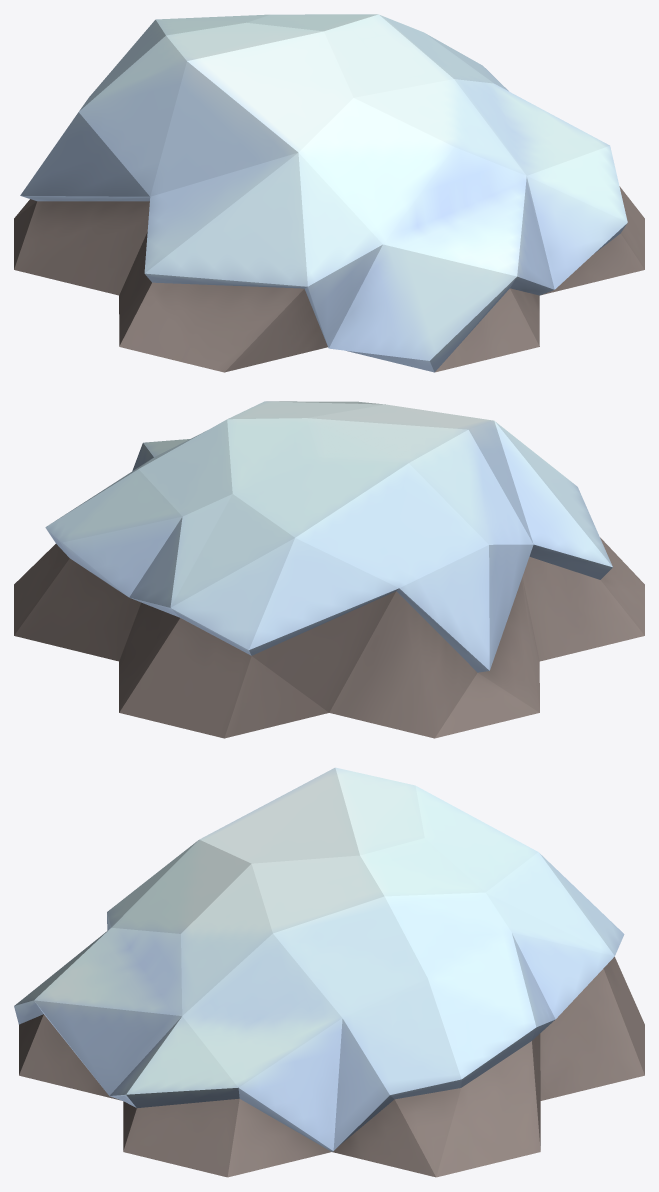
Rendered from RocherNeige_C.FBX.
3 renders of one model, top to bottom at view 1: azimuth 30°, elevation 25°; view 2: azimuth 150°, elevation 25°; view 3: azimuth 270°, elevation 25°, orthographic.
Parts seen in each view (by area): view 1: RocherNeige_C; view 2: RocherNeige_C; view 3: RocherNeige_C.
Boxes of the visible parts, x1,y1,x2,y2 form: RocherNeige_C: (14,14,644,372); RocherNeige_C: (14,401,644,738); RocherNeige_C: (14,767,644,1177).
Bounding box in the file's own units: 2.5 × 0.9826 × 2.62.
